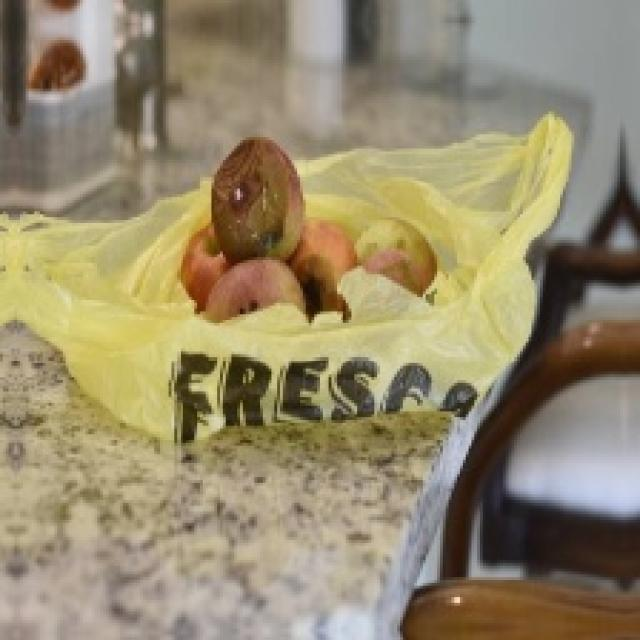rotten_apple: (215, 137, 299, 249)
